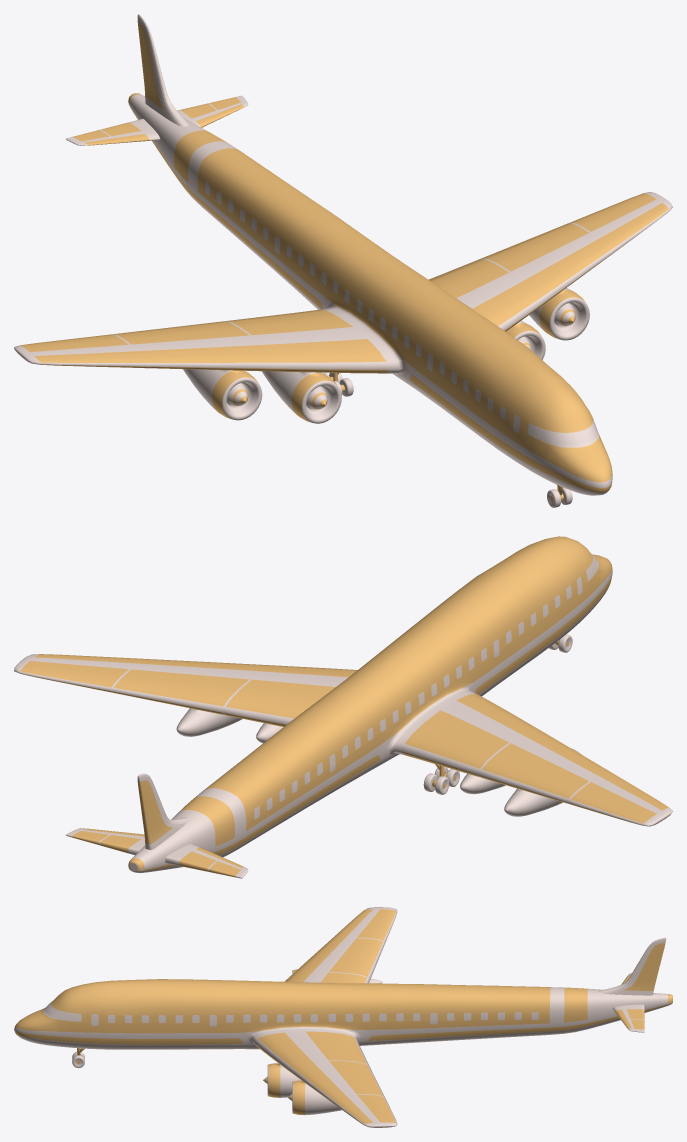
The model's file is Pesawat1.fbx.
3 renders of one model, top to bottom at view 1: azimuth 30°, elevation 25°; view 2: azimuth 150°, elevation 25°; view 3: azimuth 270°, elevation 25°, orthographic. The views are drawn at different scales.
Parts seen in each view (by area): view 1: 18.2.Airplane; view 2: 18.2.Airplane; view 3: 18.2.Airplane.
Part boxes in pixels (<box>): 18.2.Airplane: <box>14,14,672,507</box>; 18.2.Airplane: <box>14,536,672,878</box>; 18.2.Airplane: <box>14,907,672,1127</box>.
Size of the model in its own units: 206 by 56.02 by 262.
1 material, 1 textured.
